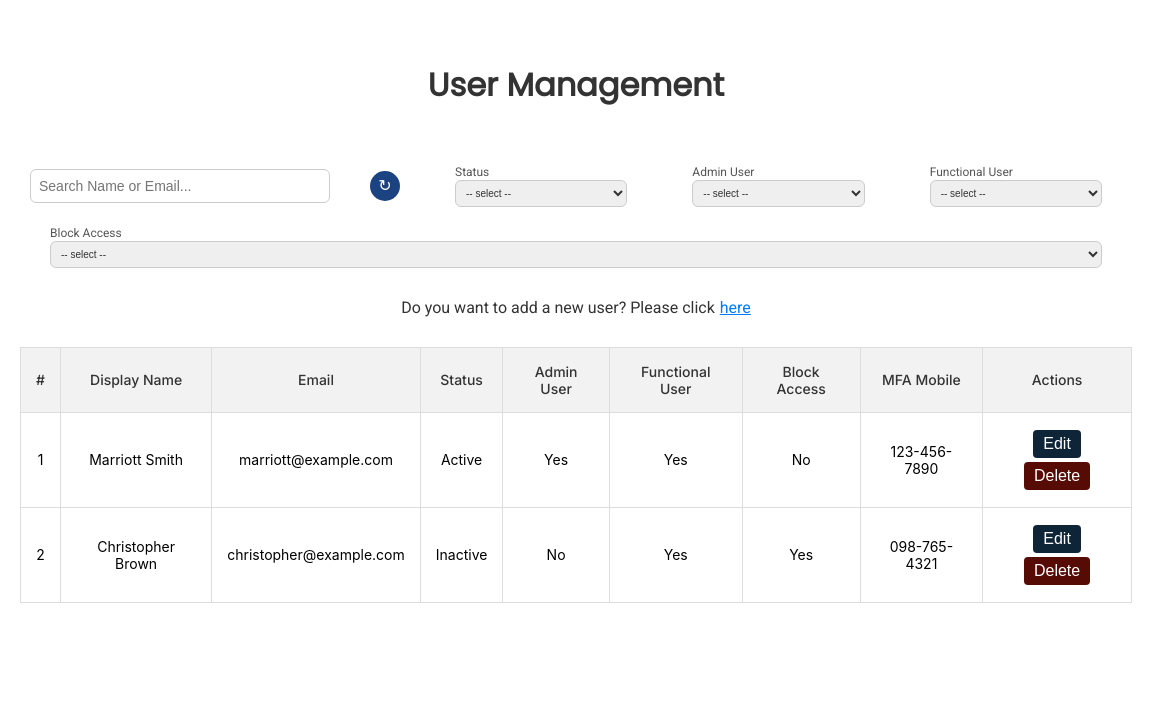
it: UserList › filters users by search query
In the field with placeholder "Search Name or Email...": coordinates (180, 186) [30,169,330,203], type "christopher"
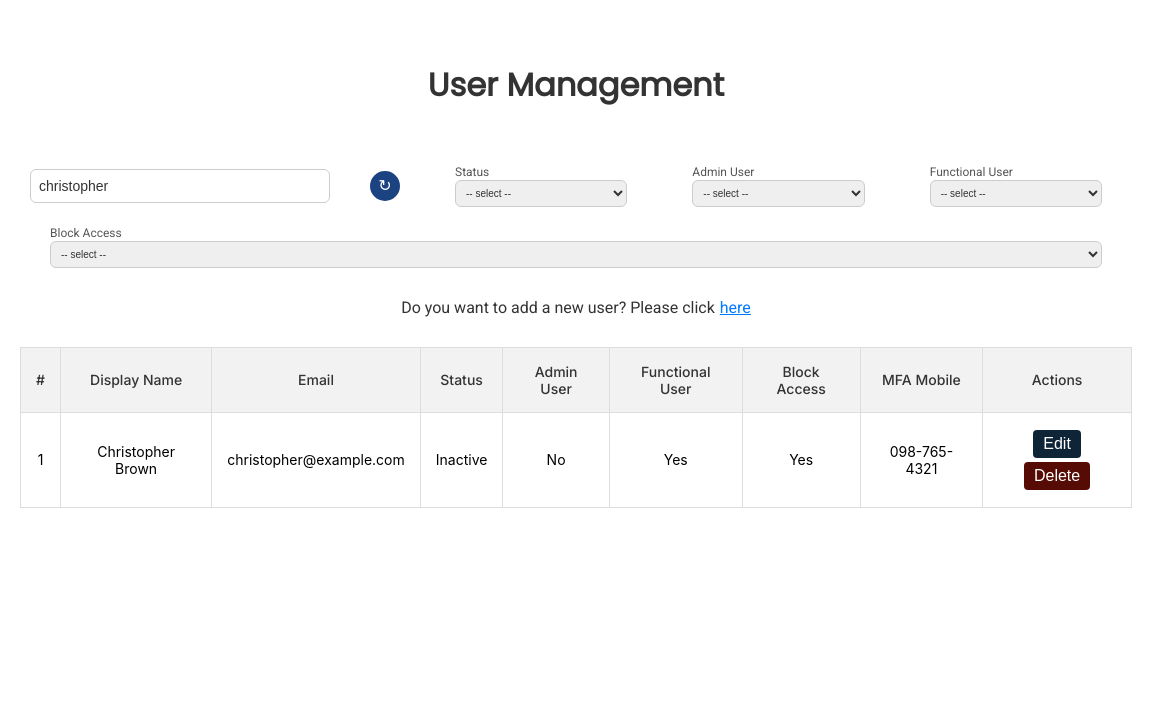
Expected: the text "Christopher Brown" is shown, [60,412,212,507]
Expected: the text "Marriott Smith" is gone
